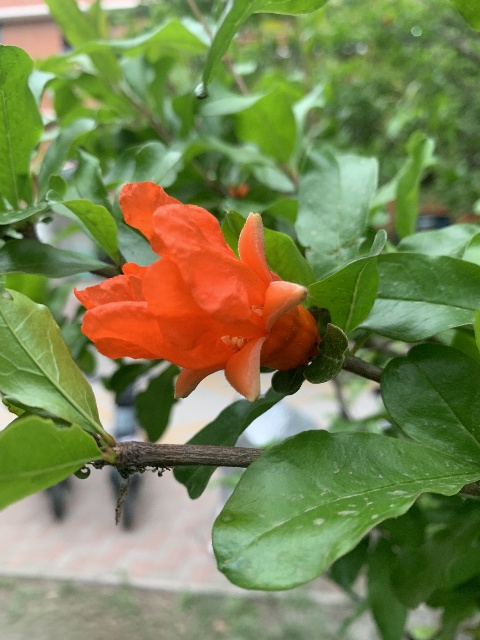flower: (72, 180, 318, 402)
